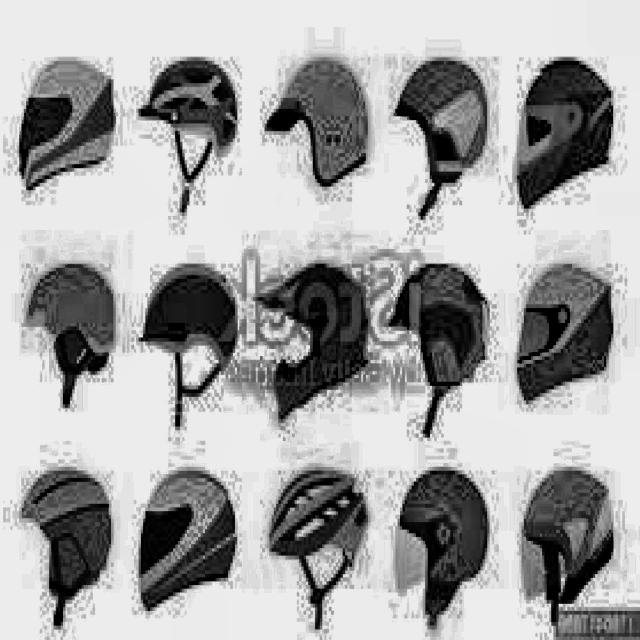Helmet: (383, 252, 493, 438), (507, 44, 623, 220), (9, 454, 119, 635), (260, 42, 379, 209), (258, 254, 370, 428), (510, 450, 619, 626), (8, 51, 122, 212), (126, 466, 238, 628), (394, 50, 493, 228), (267, 456, 369, 624), (384, 458, 486, 626), (138, 50, 239, 216), (22, 247, 122, 410), (512, 257, 615, 411), (146, 254, 234, 425)
